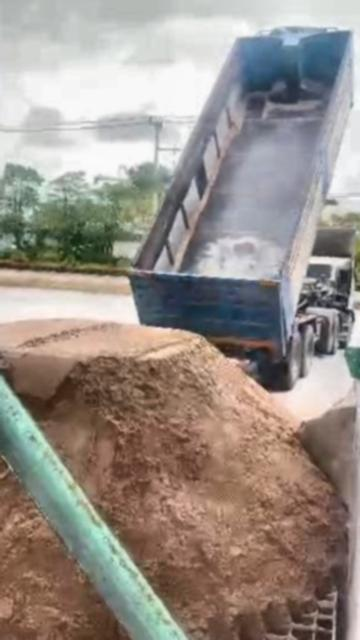sand: (0, 321, 343, 640), (0, 400, 129, 640), (298, 391, 360, 508)
